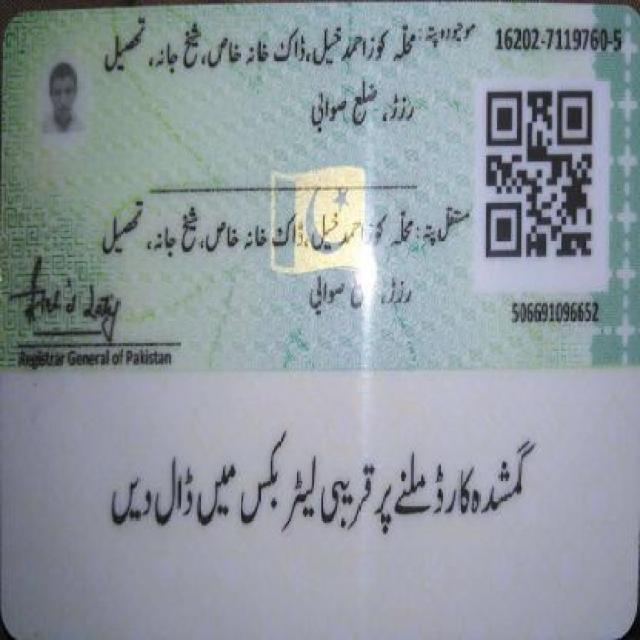Back: (4, 8, 636, 629)
